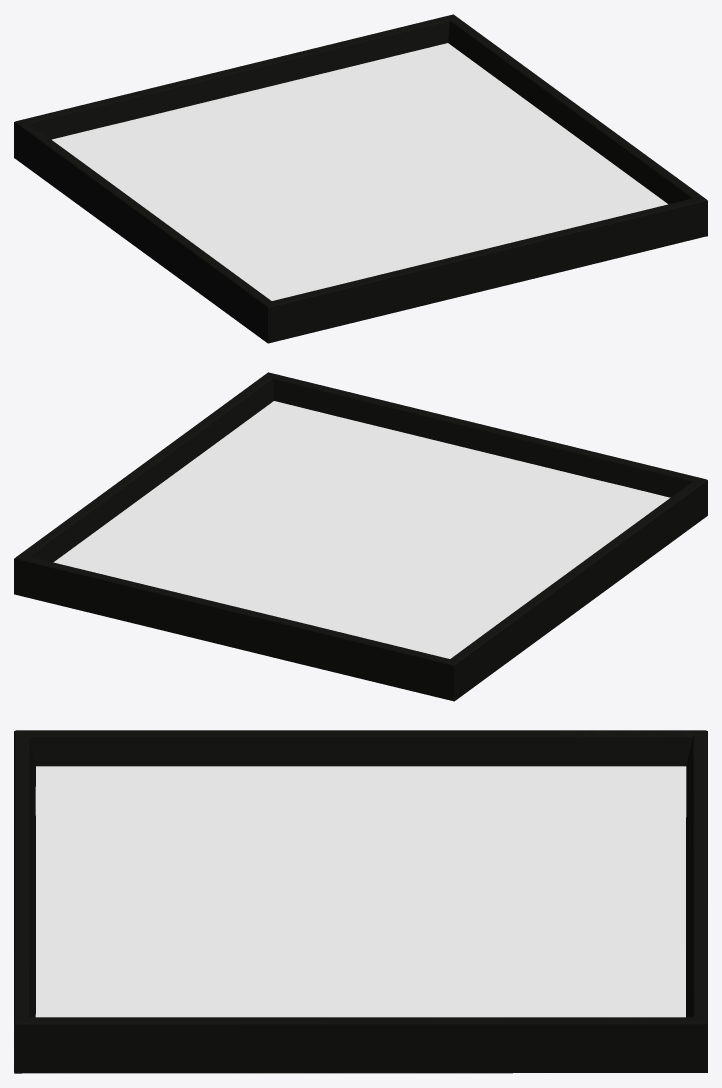
File: NISSEDAL miroir 65x65 noir.glb
3 views of the same model, one above another, from view 1: azimuth 30°, elevation 25°; view 2: azimuth 150°, elevation 25°; view 3: azimuth 270°, elevation 25° (orthographic). The views are drawn at different scales.
Parts seen in each view (by area): view 1: 50320320-NISSEDAL001; view 2: 50320320-NISSEDAL001; view 3: 50320320-NISSEDAL001.
Boxes of the visible parts, x1,y1,x2,y2 form: 50320320-NISSEDAL001: (14,14,707,343); 50320320-NISSEDAL001: (14,372,707,701); 50320320-NISSEDAL001: (14,730,707,1073).
Size of the model in its own units: 0.6501 by 0.0531 by 0.6501.
Materials: 1 (1 with a texture image).
